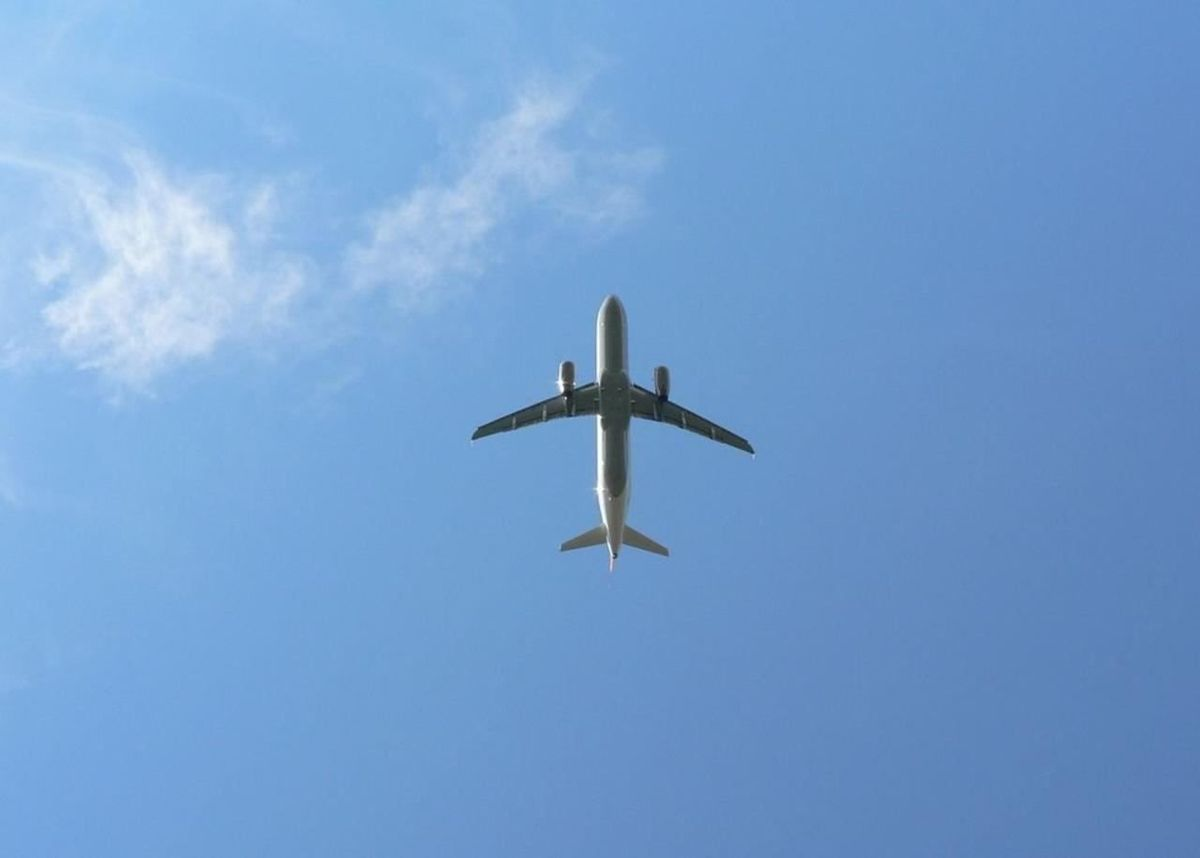plane: (470, 290, 759, 574)
